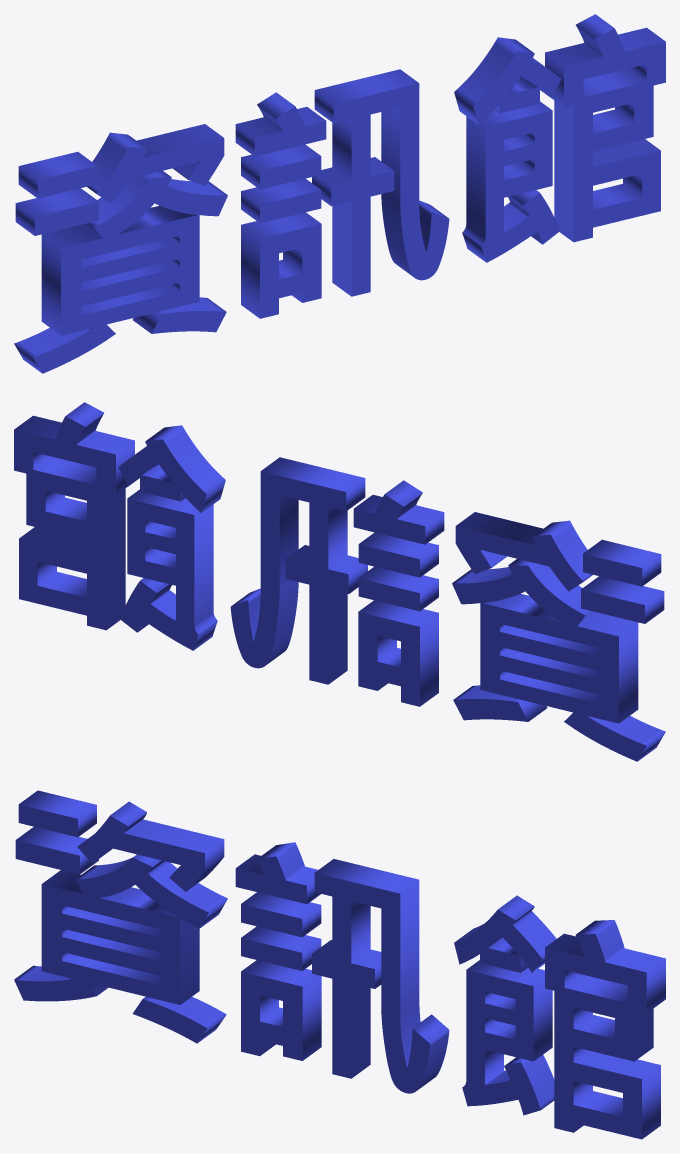
3 views of the same model, one above another, from view 1: azimuth 30°, elevation 25°; view 2: azimuth 150°, elevation 25°; view 3: azimuth 330°, elevation 25° (orthographic).
Visible parts, largest first — view 1: 文字; view 2: 文字; view 3: 文字.
Boxes of the visible parts, left/top/right/bottom form: 文字: left=14, top=14, right=665, bottom=373; 文字: left=14, top=402, right=665, bottom=761; 文字: left=14, top=790, right=665, bottom=1139.
Bounding box in the file's own units: 2.29 × 0.7168 × 0.12.
